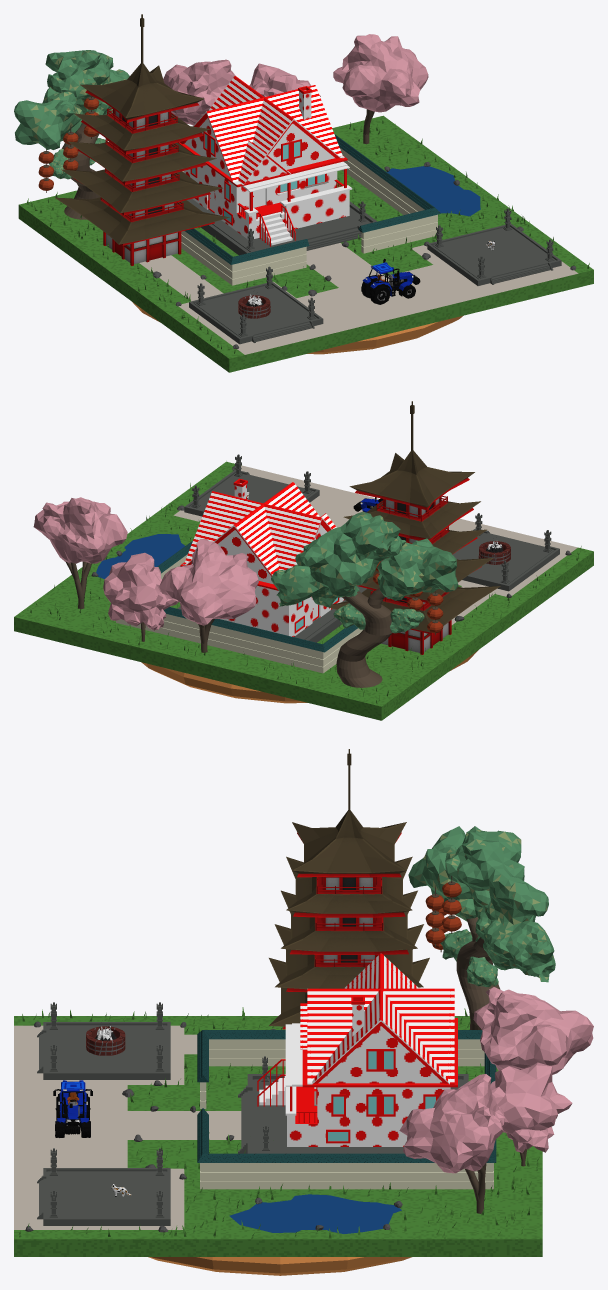
The picture shows the model from 3 angles, top to bottom: view 1: azimuth 30°, elevation 25°; view 2: azimuth 150°, elevation 25°; view 3: azimuth 270°, elevation 25°; orthographic projection. The views are drawn at different scales.
Parts seen in each view (by area): view 1: Cube.005, Cube.196, VEHICLES_TRACTOR, UNDERGROUND_PIZZA, OBJRANDOM_CAMPFIRE; view 2: Cube.005, Cube.196, UNDERGROUND_PIZZA, OBJRANDOM_CAMPFIRE; view 3: Cube.005, Cube.196, UNDERGROUND_PIZZA, VEHICLES_TRACTOR, OBJRANDOM_CAMPFIRE.
Part boxes in pixels (<box>): Cube.005: <box>14,14,593,372</box>; Cube.196: <box>177,76,352,246</box>; VEHICLES_TRACTOR: <box>361,258,420,304</box>; UNDERGROUND_PIZZA: <box>132,302,463,354</box>; OBJRANDOM_CAMPFIRE: <box>238,294,270,318</box>; Cube.005: <box>14,401,593,720</box>; Cube.196: <box>180,478,344,636</box>; UNDERGROUND_PIZZA: <box>141,650,478,703</box>; OBJRANDOM_CAMPFIRE: <box>478,541,510,564</box>; Cube.005: <box>14,749,593,1256</box>; Cube.196: <box>257,953,457,1146</box>; UNDERGROUND_PIZZA: <box>148,1257,411,1275</box>; VEHICLES_TRACTOR: <box>53,1080,92,1137</box>; OBJRANDOM_CAMPFIRE: <box>86,1024,125,1055</box>.
Size of the model in its own units: 4528 by 2902 by 4389.
Materials: 41 (6 with a texture image).
